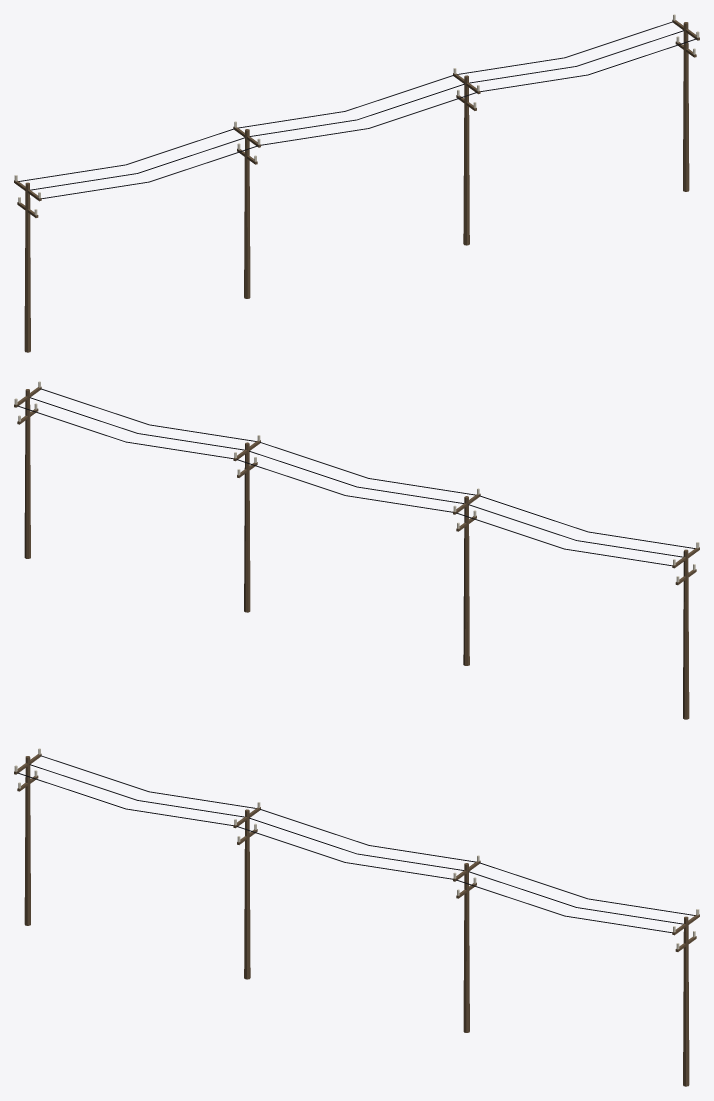
Rendered from welt_strommast_trasse.glb.
The picture shows the model from 3 angles, top to bottom: view 1: azimuth 30°, elevation 25°; view 2: azimuth 150°, elevation 25°; view 3: azimuth 330°, elevation 25°; orthographic projection.
Parts seen in each view (by area): view 1: welt_strommast_trasse; view 2: welt_strommast_trasse; view 3: welt_strommast_trasse.
Part boxes in pixels (x1,y1,x2,y2): welt_strommast_trasse: [14, 14, 699, 352]; welt_strommast_trasse: [14, 381, 699, 719]; welt_strommast_trasse: [14, 748, 699, 1086].
Size of the model in its own units: 39.33 by 9.5 by 2.6.
